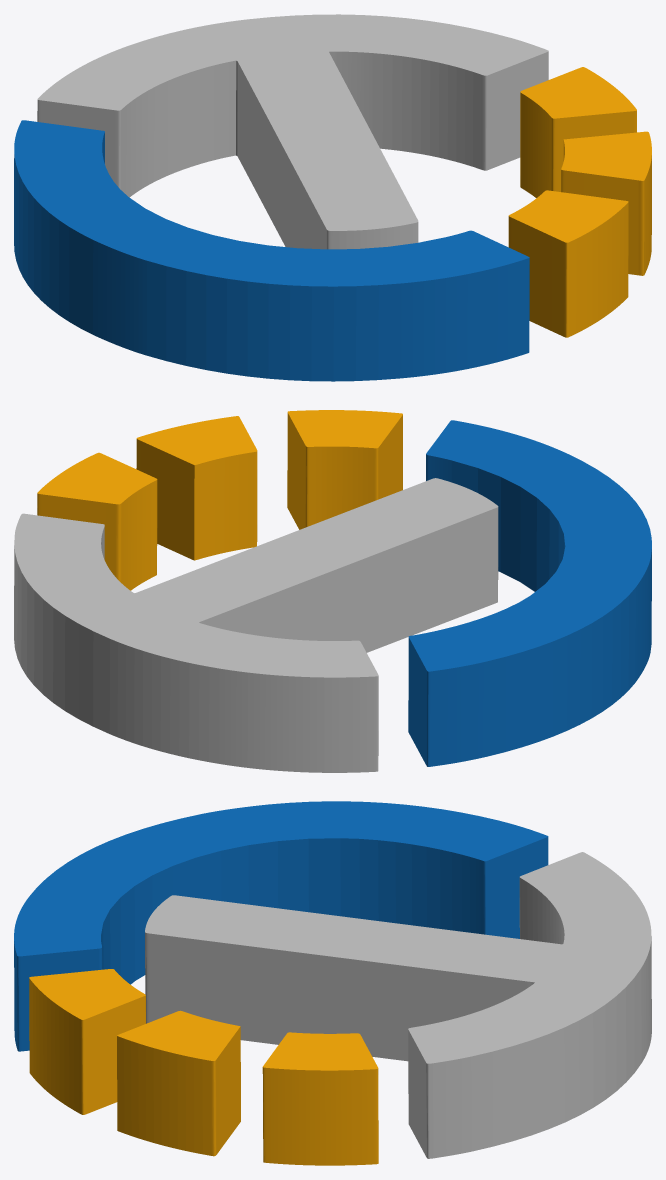
Rendered from technicool_metal_updated.gltf.
The picture shows the model from 3 angles, top to bottom: view 1: azimuth 30°, elevation 25°; view 2: azimuth 150°, elevation 25°; view 3: azimuth 270°, elevation 25°; orthographic projection.
Visible parts, largest first — view 1: Curve.001; view 2: Curve.001; view 3: Curve.001.
Boxes of the visible parts, x1,y1,x2,y2 form: Curve.001: (14, 14, 651, 381); Curve.001: (14, 410, 651, 772); Curve.001: (14, 801, 651, 1165).
Bounding box in the file's own units: 0.2191 × 0.0371 × 0.2192.
